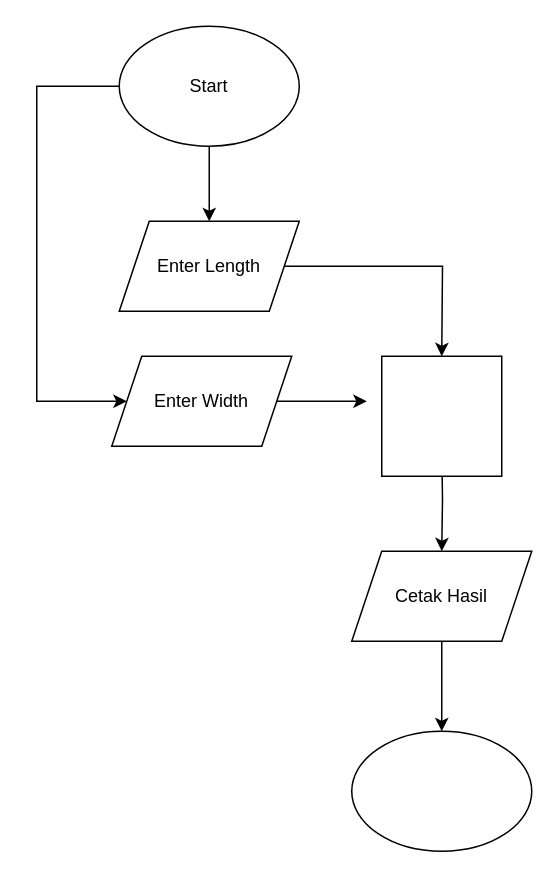
The diagram is 558 pixels wide and 878 high, and some of its shapes have lost their labels. Each missing label, with the centre of its shape:
"End" belongs at (x=441, y=790).
"Hasil = Length*Width" belongs at (x=441, y=415).
